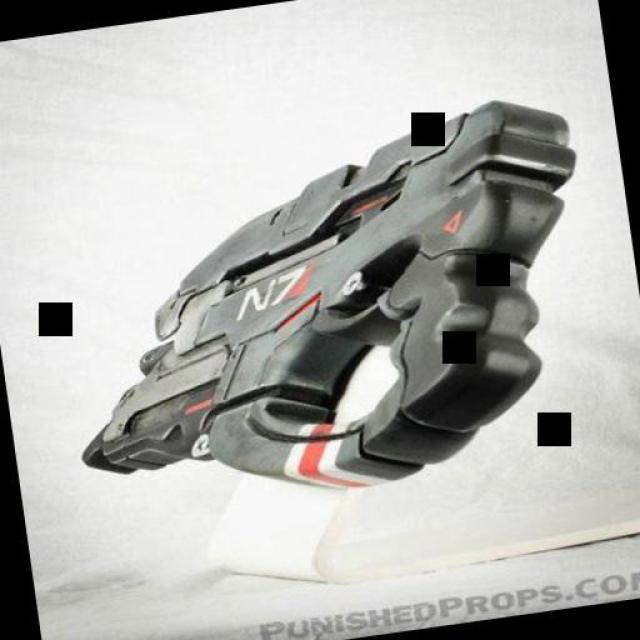gun: (5, 68, 633, 548)
